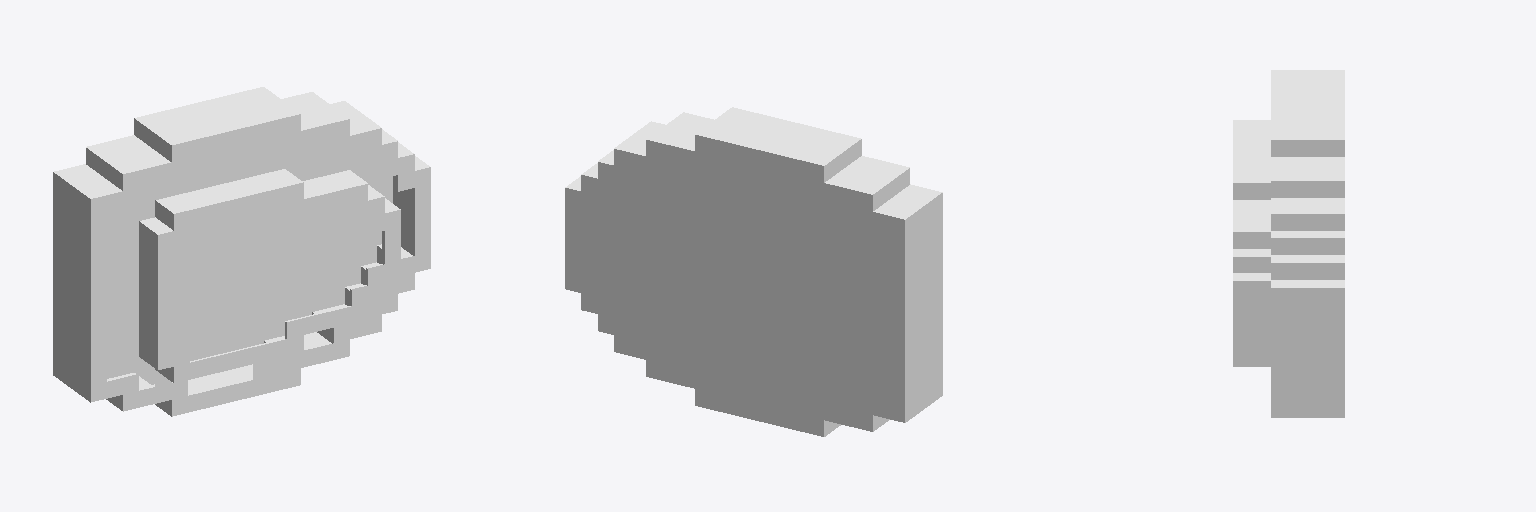
3 views of the same model, side by side, from view 1: azimuth 30°, elevation 25°; view 2: azimuth 150°, elevation 25°; view 3: azimuth 270°, elevation 25° (orthographic).
Parts seen in each view (by area): view 1: merchant; view 2: merchant; view 3: merchant.
Part boxes in pixels (x1,y1,x2,y2): merchant: (53, 87, 430, 416); merchant: (565, 107, 942, 436); merchant: (1233, 70, 1344, 417).
Bounding box in the file's own units: 21 × 16 × 7.
1 materials, 1 textured.